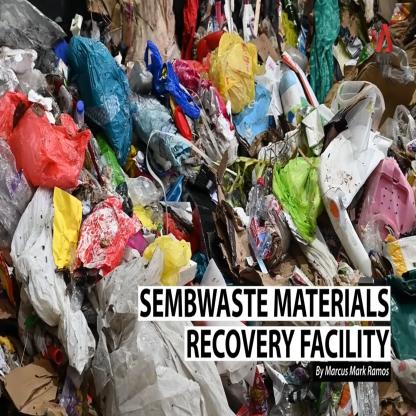Glass Bottle: (247, 176, 274, 261), (72, 100, 86, 135)
